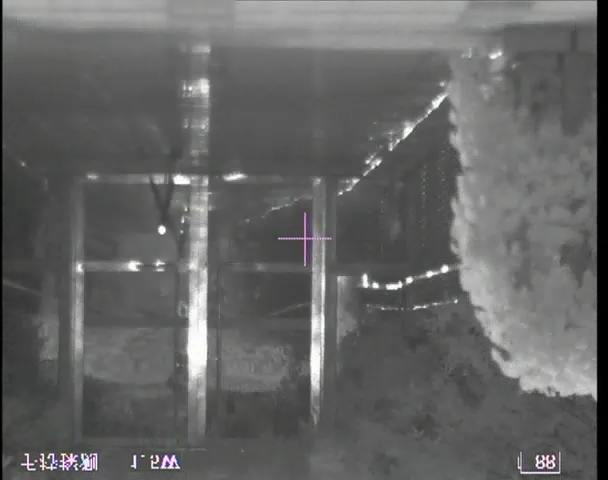my: (157, 224, 167, 235)
